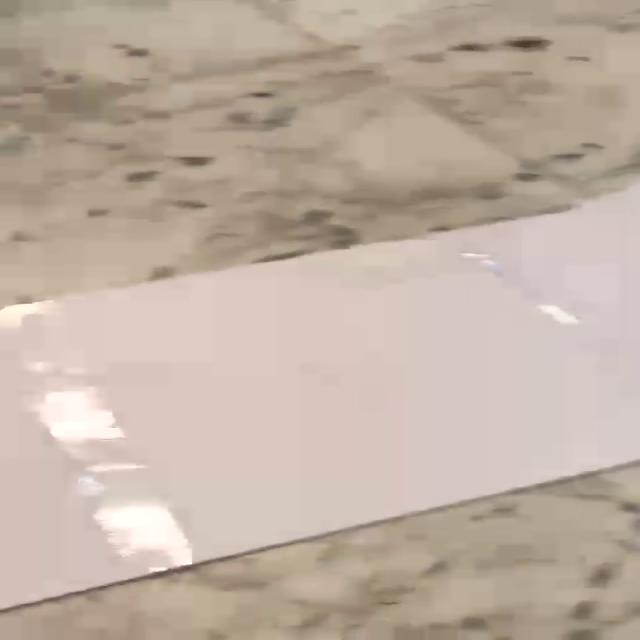road: (3, 186, 639, 608)
